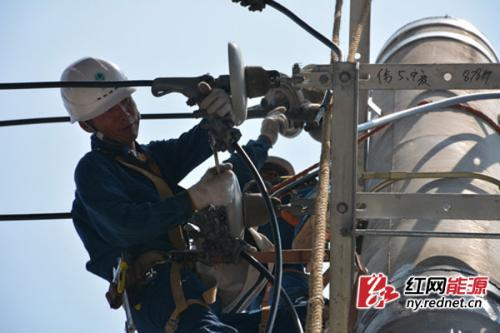gloves: (188, 163, 242, 211), (198, 86, 232, 120)
hard-hat: (59, 55, 136, 123)
person: (58, 55, 290, 333)
ppe-suit: (69, 117, 275, 333)
